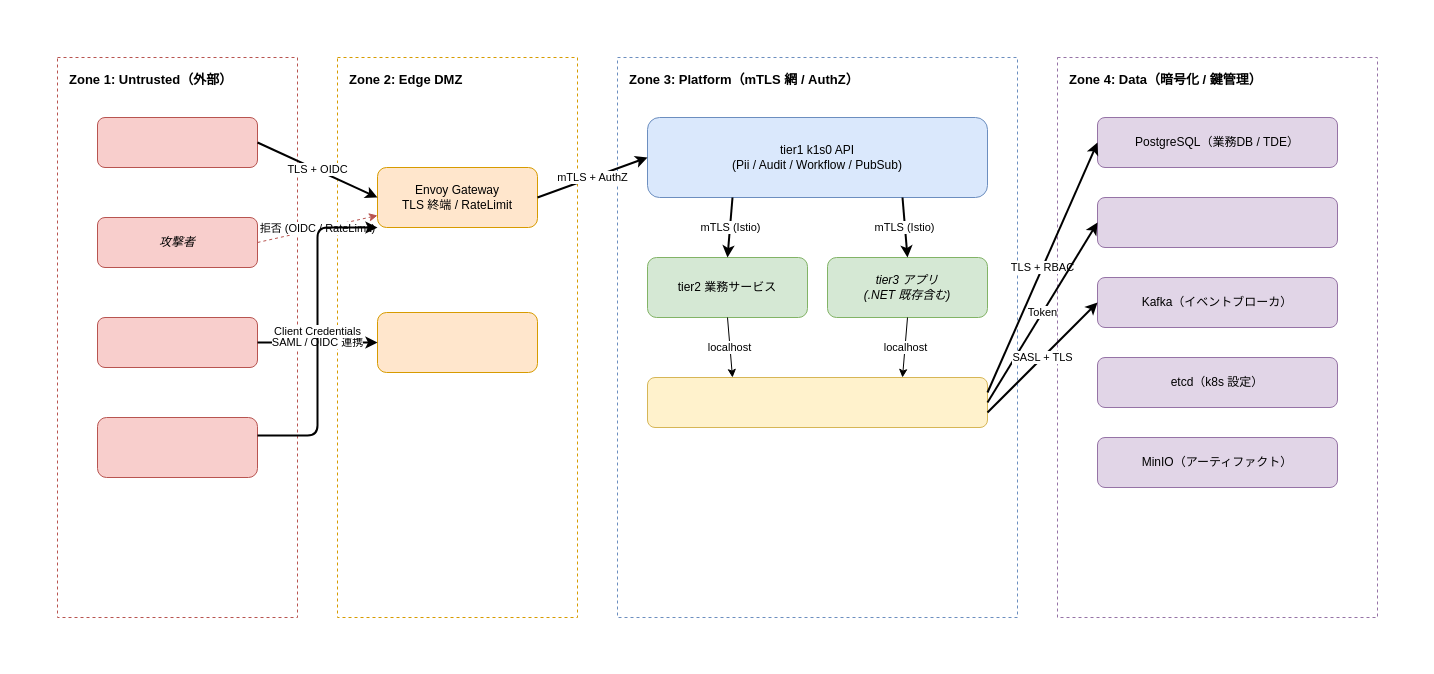
Some shapes in this 1434 by 674 pixel diagram are drawn without their labels. The shapes that lost their labels are listed below. From the top down, each one's centre as x and y in pixels, then its label:
At point (177, 142): "エンドユーザー".
At point (1217, 222): "OpenBao（Secrets / Transit）".
At point (177, 342): "外部 IdP (Phase 4)".
At point (457, 342): "Keycloak OIDC IdP".
At point (817, 402): "Dapr サイドカー（各 Pod 同梱）".
At point (177, 447): "tier2 開発者 (クライアント Lib)".
